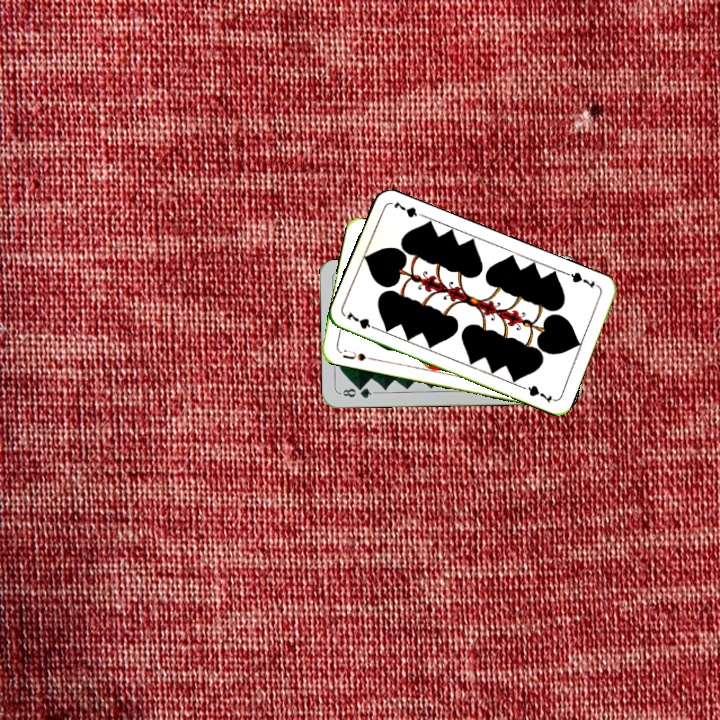G7: (343, 308, 381, 333), (563, 268, 602, 291)
G8: (337, 383, 377, 401)
SU: (335, 345, 376, 364)
